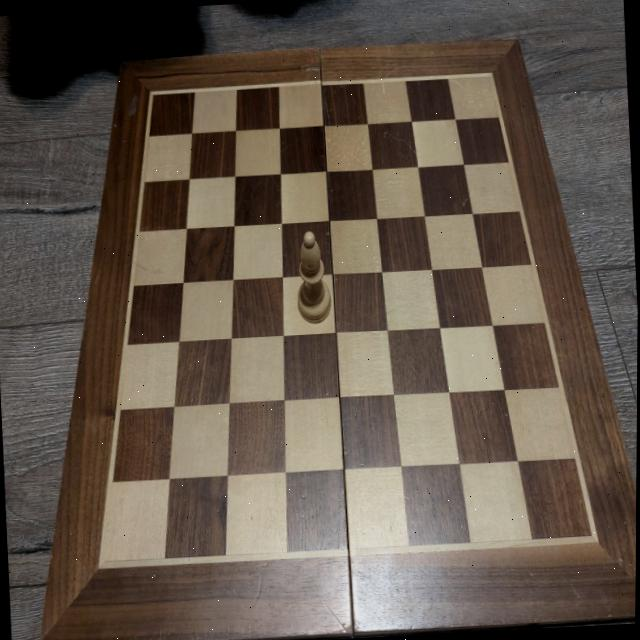white_bishop: (293, 230, 334, 326)
